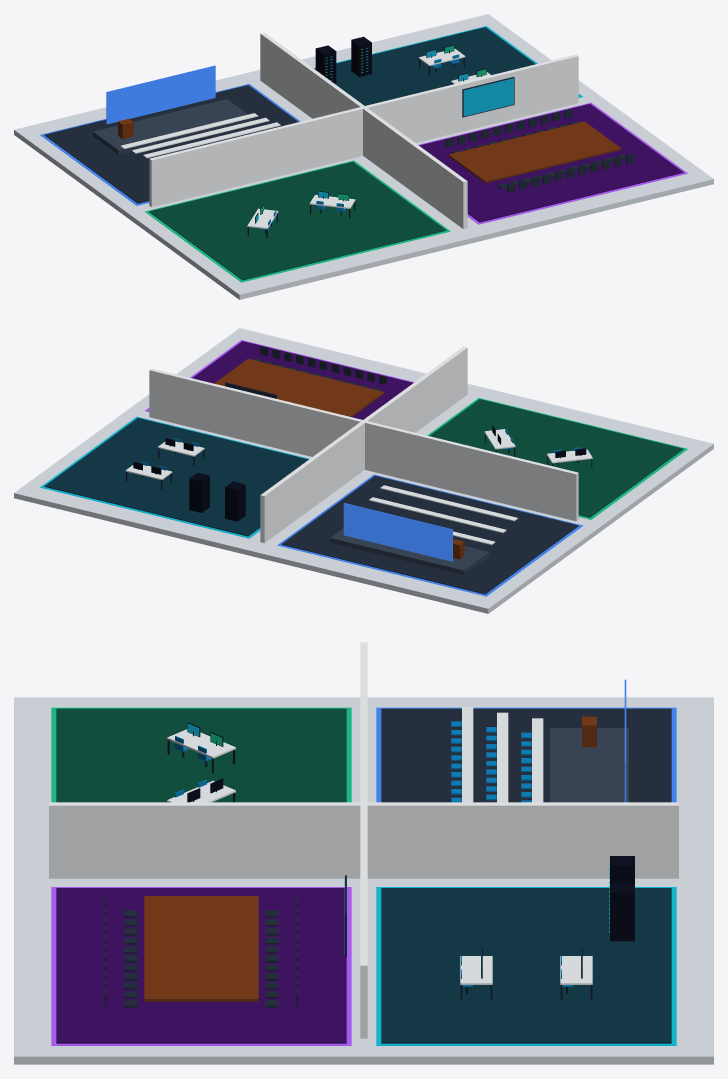
The model's file is academic_floor_0.glb.
The picture shows the model from 3 angles, top to bottom: view 1: azimuth 30°, elevation 25°; view 2: azimuth 150°, elevation 25°; view 3: azimuth 270°, elevation 25°; orthographic projection. The views are drawn at different scales.
Parts seen in each view (by area): view 1: object 1, object 3, ROOM_ACAD_001, ROOM_ACAD_004, object 2, ROOM_ACAD_003, ROOM_ACAD_002, object 154, object 44, object 42, object 5, object 201 (+7 smaller); view 2: object 1, object 3, ROOM_ACAD_003, ROOM_ACAD_002, ROOM_ACAD_001, object 2, object 154, object 44, ROOM_ACAD_004, object 42, object 41, object 79 (+5 smaller); view 3: object 1, object 2, ROOM_ACAD_003, ROOM_ACAD_004, ROOM_ACAD_001, ROOM_ACAD_002, object 154, object 42, object 3, object 79, object 153, object 5 (+9 smaller).
Part boxes in pixels (<box>): object 1: <box>14,14,713,299</box>; object 3: <box>149,54,578,207</box>; ROOM_ACAD_001: <box>149,161,446,280</box>; ROOM_ACAD_004: <box>419,104,683,222</box>; object 2: <box>260,32,467,228</box>; ROOM_ACAD_003: <box>314,27,535,105</box>; ROOM_ACAD_002: <box>44,85,298,203</box>; object 154: <box>448,121,621,182</box>; object 44: <box>106,65,215,124</box>; object 42: <box>93,99,252,154</box>; object 5: <box>145,160,450,282</box>; object 201: <box>463,78,513,116</box>; object 1: <box>14,328,713,613</box>; object 3: <box>149,368,578,521</box>; ROOM_ACAD_003: <box>44,418,308,536</box>; ROOM_ACAD_002: <box>281,475,578,594</box>; ROOM_ACAD_001: <box>429,399,683,517</box>; object 2: <box>260,346,467,542</box>; object 154: <box>214,358,383,417</box>; object 44: <box>343,503,452,561</box>; ROOM_ACAD_004: <box>192,341,413,419</box>; object 42: <box>330,528,489,574</box>; object 41: <box>277,474,582,596</box>; object 79: <box>40,416,309,538</box>; object 1: <box>14,697,713,1064</box>; object 2: <box>49,802,678,878</box>; ROOM_ACAD_003: <box>381,888,671,1043</box>; ROOM_ACAD_004: <box>56,888,346,1043</box>; ROOM_ACAD_001: <box>56,708,346,802</box>; ROOM_ACAD_002: <box>381,708,671,802</box>; object 154: <box>144,896,258,1001</box>; object 42: <box>550,728,628,802</box>; object 3: <box>360,642,367,1038</box>; object 79: <box>376,887,676,1045</box>; object 153: <box>51,887,351,1045</box>; object 5: <box>51,707,351,802</box>.
Size of the model in its own units: 34 by 3.57 by 28.
